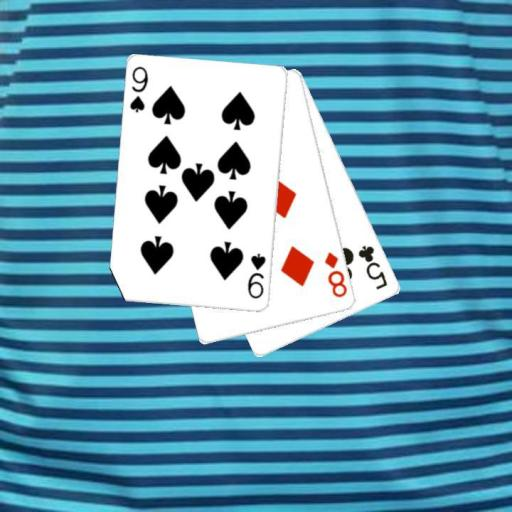5C: (355, 243, 390, 292)
8D: (322, 249, 349, 299)
9S: (245, 250, 268, 301), (127, 64, 150, 115)
